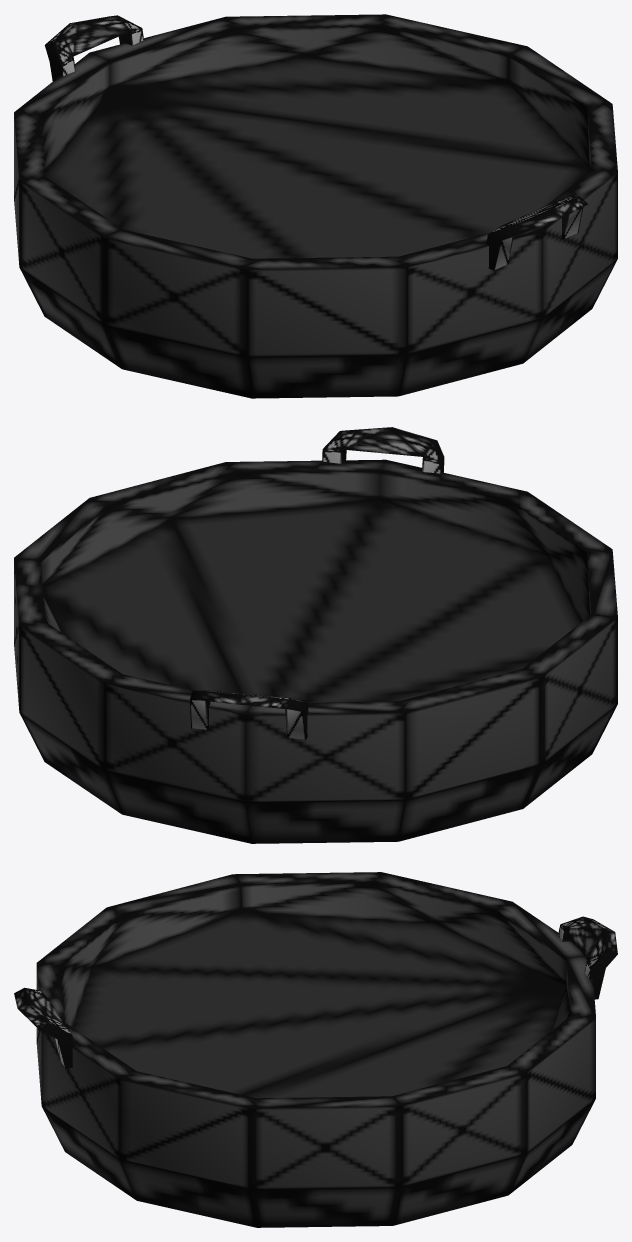
Rendered from budaejjigae.FBX.
The picture shows the model from 3 angles, top to bottom: view 1: azimuth 30°, elevation 25°; view 2: azimuth 150°, elevation 25°; view 3: azimuth 270°, elevation 25°; orthographic projection. The views are drawn at different scales.
Visible parts, largest first — view 1: CookingPotFull; view 2: CookingPotFull; view 3: CookingPotFull.
Boxes of the visible parts, bbox=[...] form: CookingPotFull: bbox=[14, 14, 617, 398]; CookingPotFull: bbox=[14, 427, 617, 843]; CookingPotFull: bbox=[14, 872, 617, 1227].
Size of the model in its own units: 54.92 by 16.62 by 59.29.
